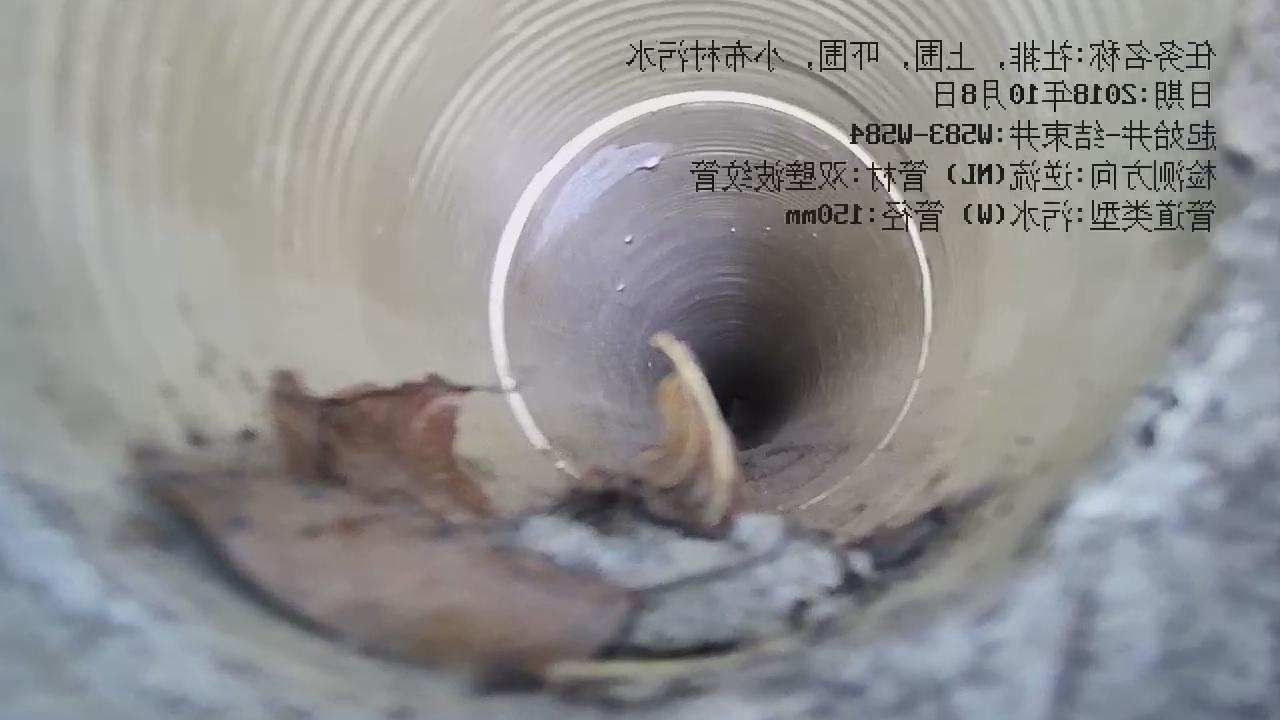CKTJ: (479, 81, 943, 532)
